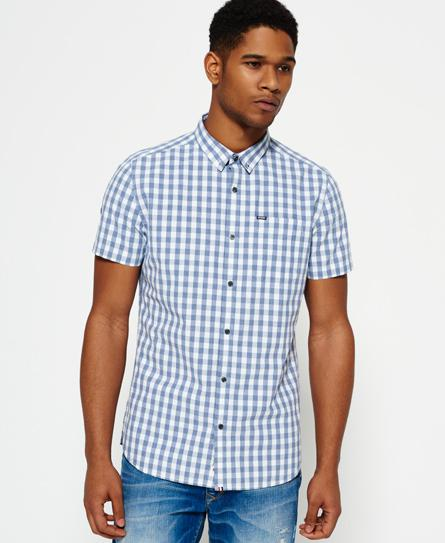teeshirt: (91, 110, 357, 518)
